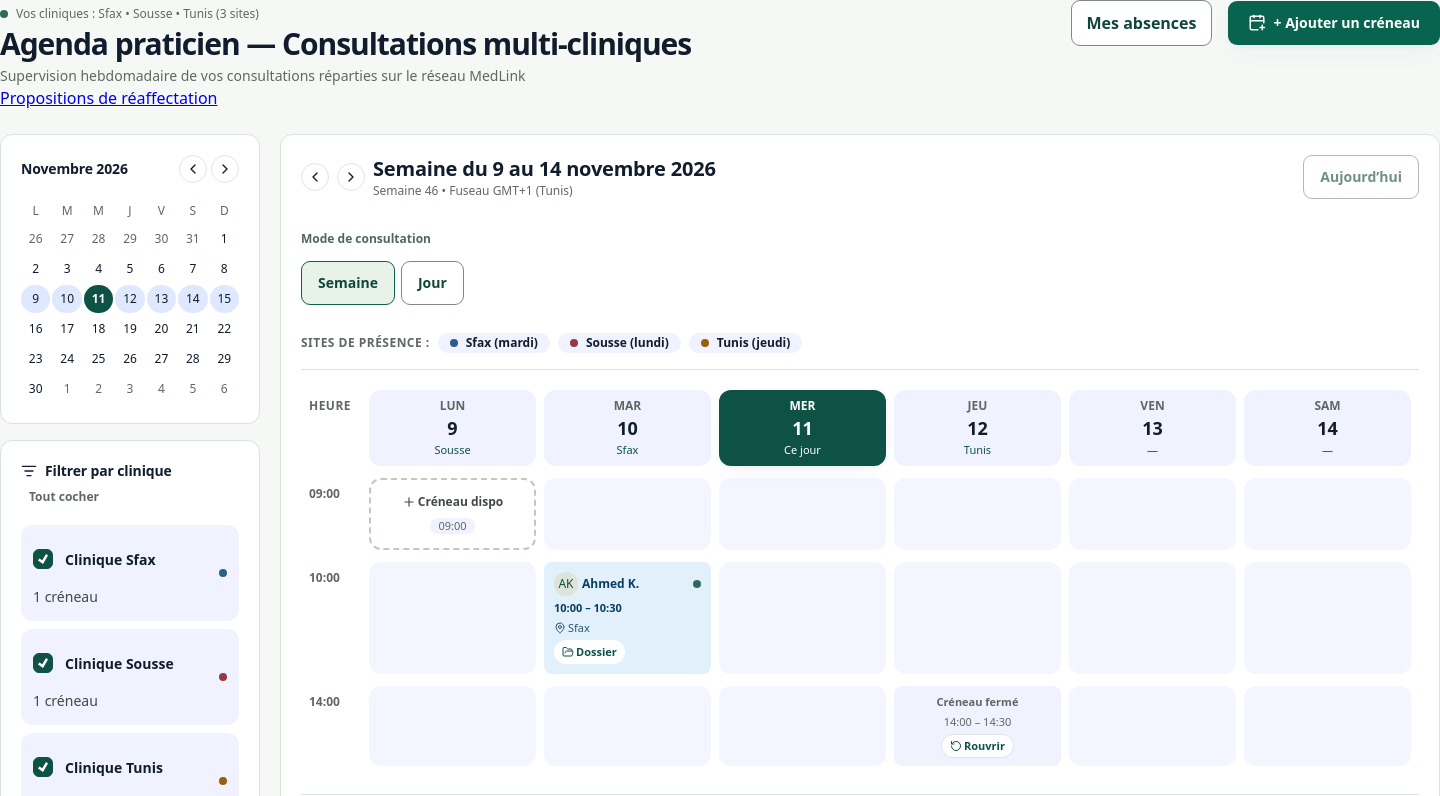
Test: day view selects a date within the loaded week
Expected: the table named "Semaine du 9 au 14 novembre 2026" is shown, [301,378,1419,778]
Click the button "Jour" at (432, 283), box [401,261,464,305]
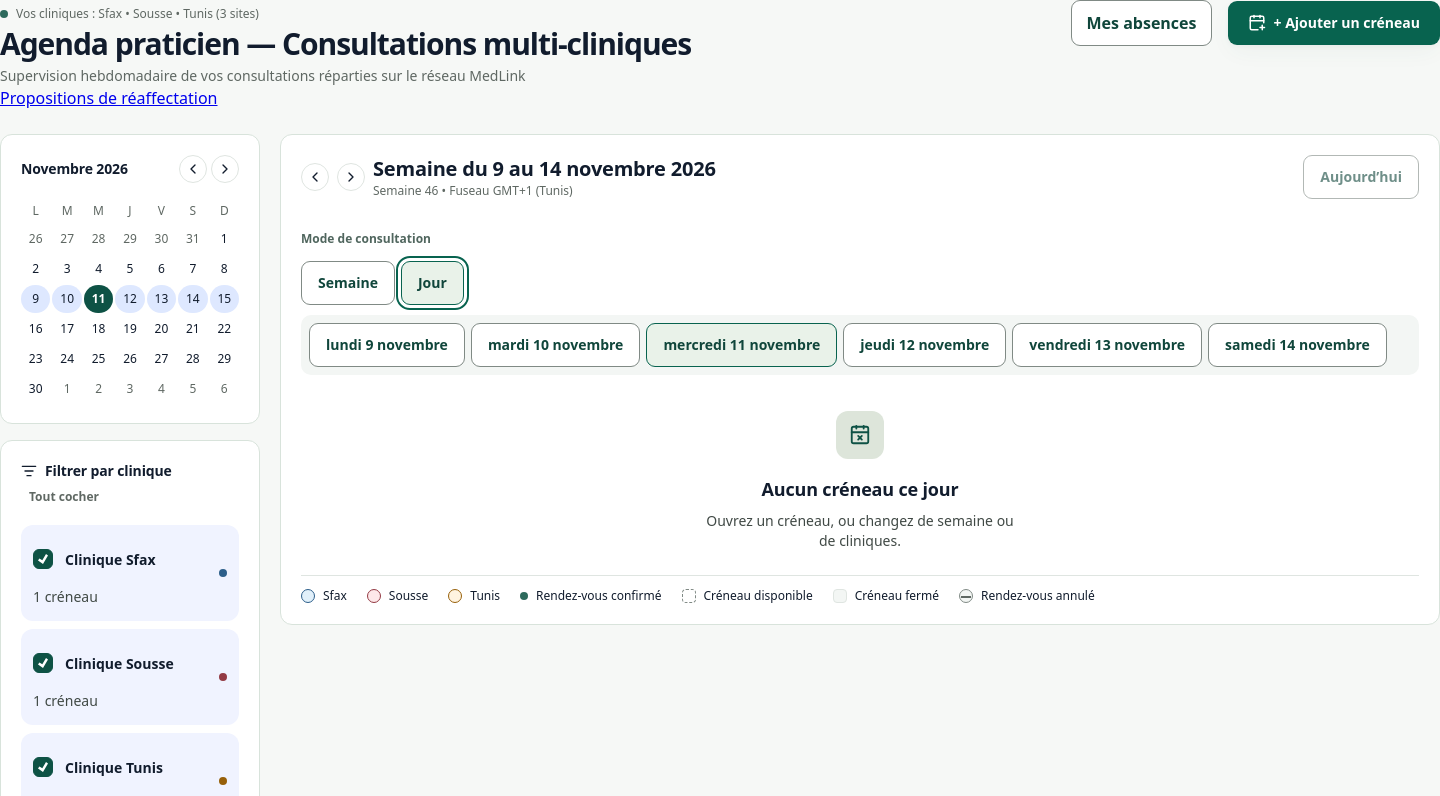
Click the button "mardi 10 novembre" at (556, 345), box [471,323,640,367]
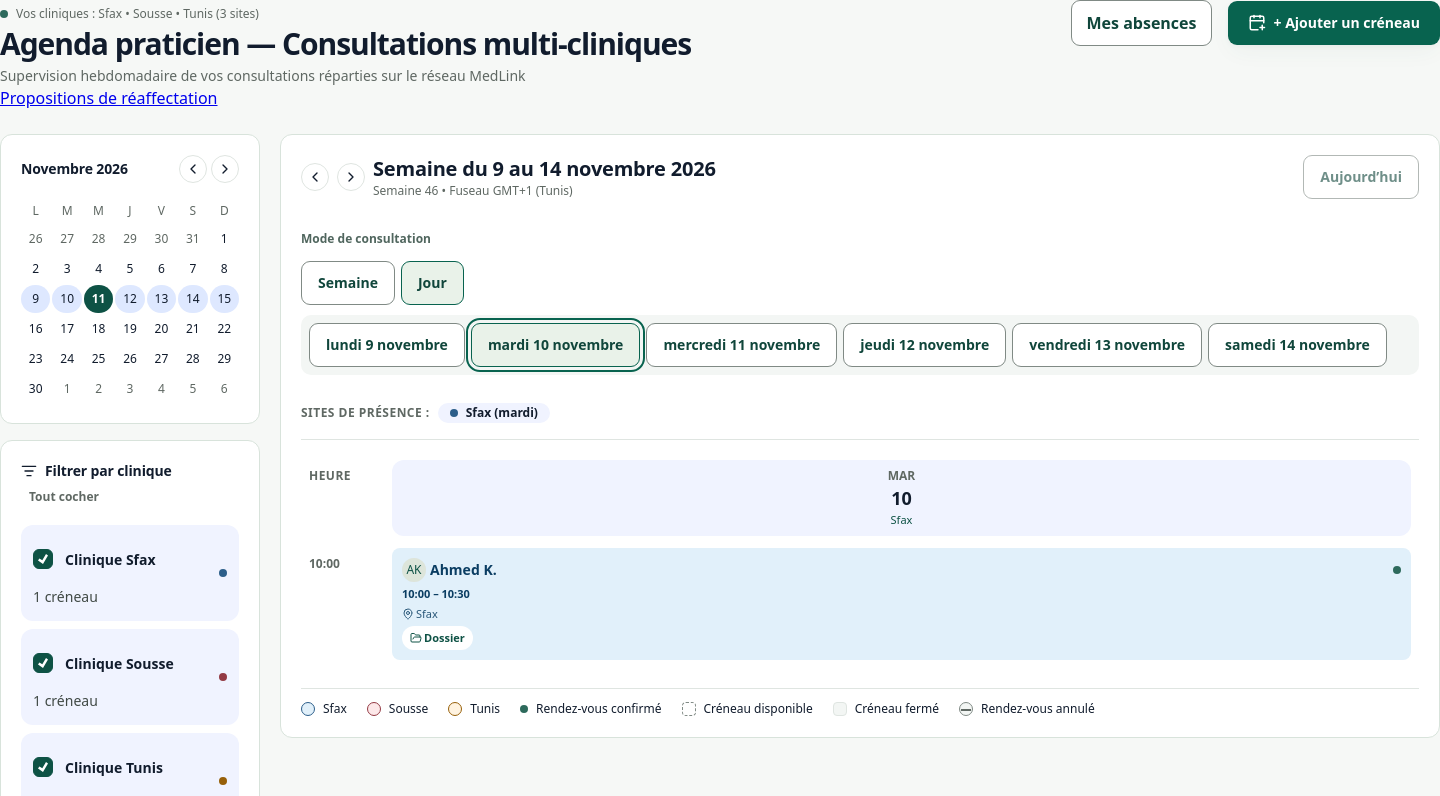
Expected: the table named "mardi 10 novembre" is shown, [301,448,1419,672]
Expected: the list item named "Ahmed Kacem" is shown, [392,548,1411,660]
Click the button "Semaine" at (348, 283), box [301,261,395,305]
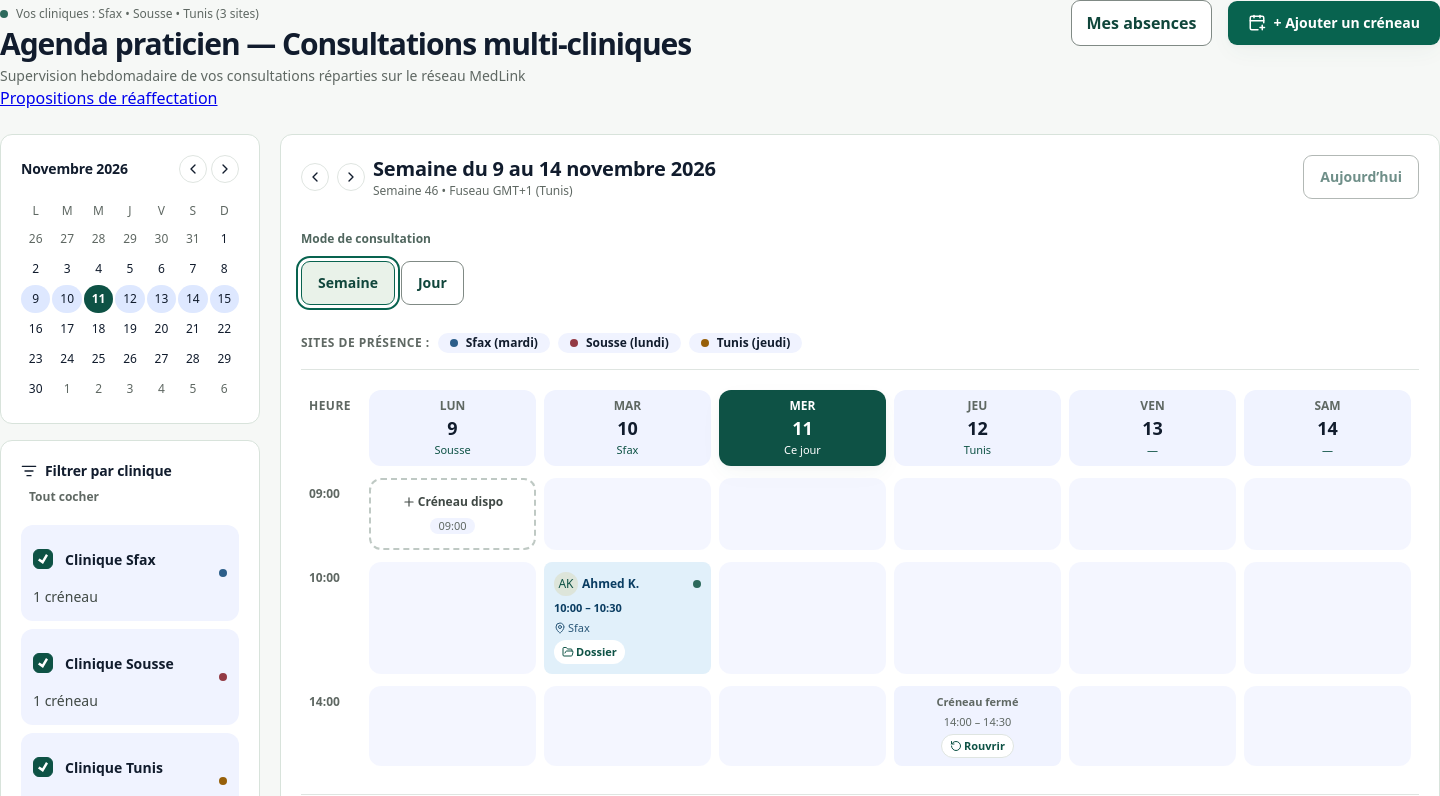
Expected: the table named "Semaine du 9 au 14 novembre 2026" is shown, [301,378,1419,778]
